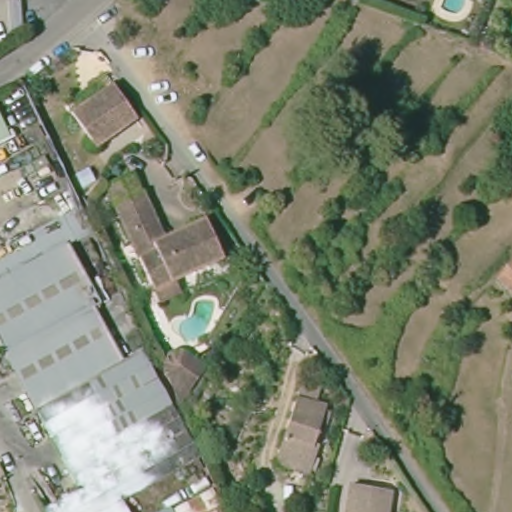pool: (168, 295, 225, 345)
